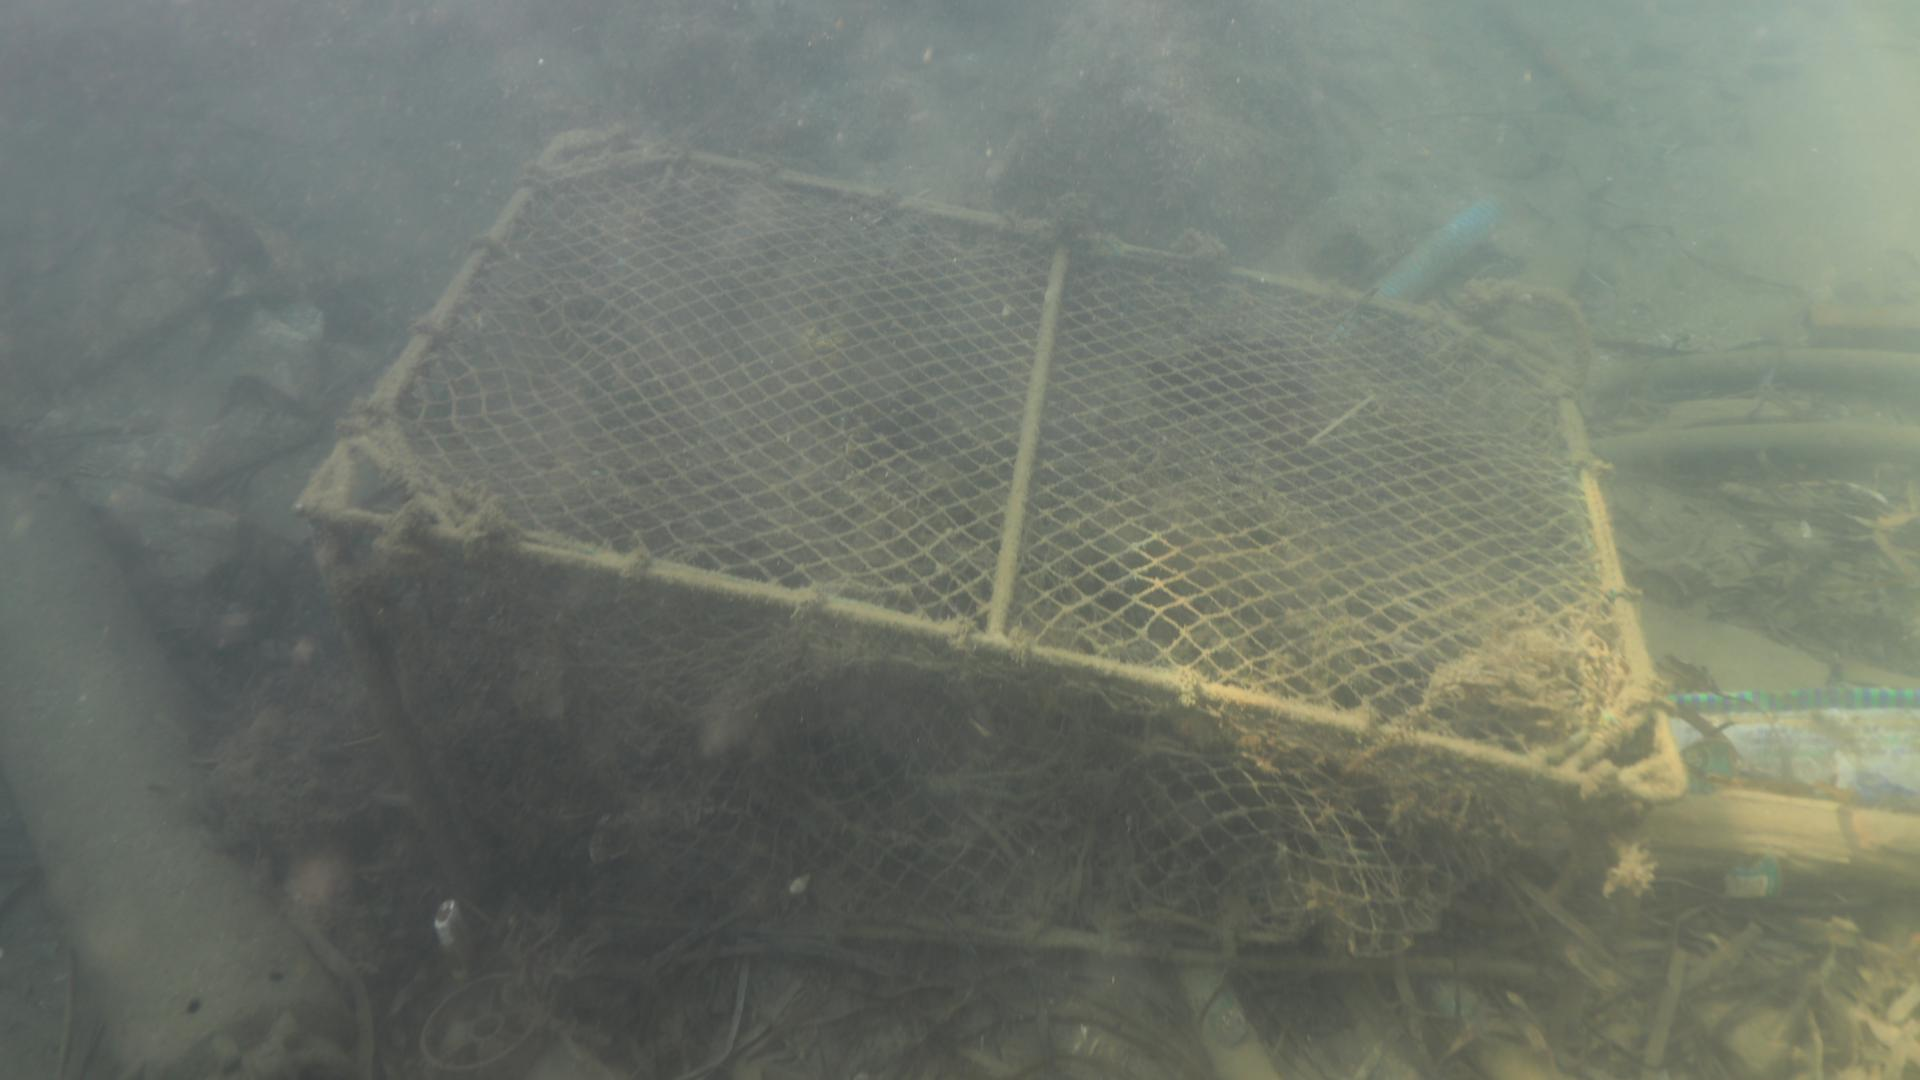eel fish trap: (0, 462, 356, 1080)
rectangular fish trap: (295, 124, 1689, 956)
